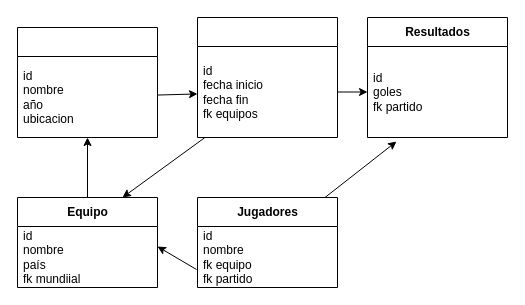
This 525x305 diagram has some shape labels left out. Here are the shapes that lost their labels. From the top down, the box of each, then its label:
(16, 26, 158, 138): Mundial
(196, 16, 338, 138): Partidos
